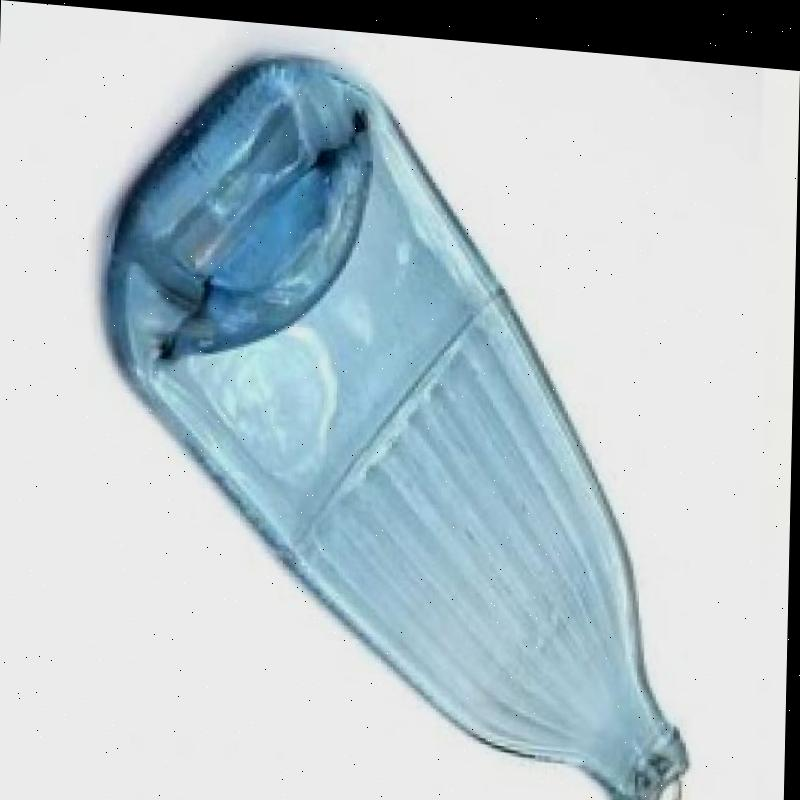botella: (97, 35, 708, 800)
